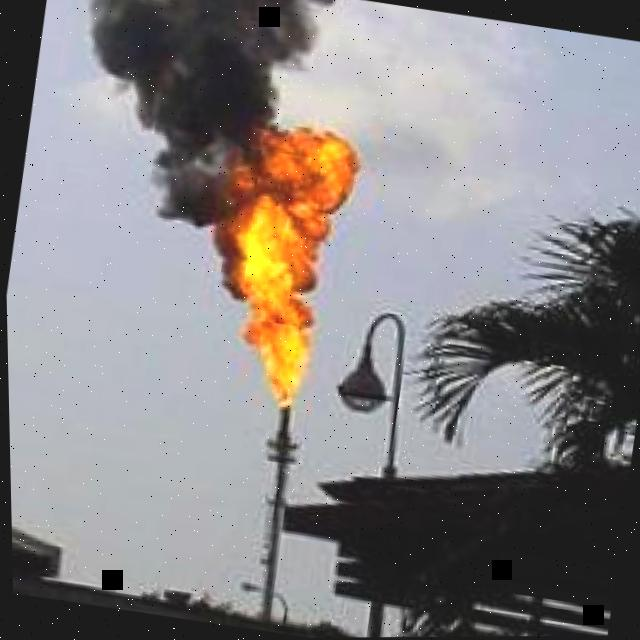fire: (228, 127, 359, 408)
smoke: (87, 0, 336, 302)
